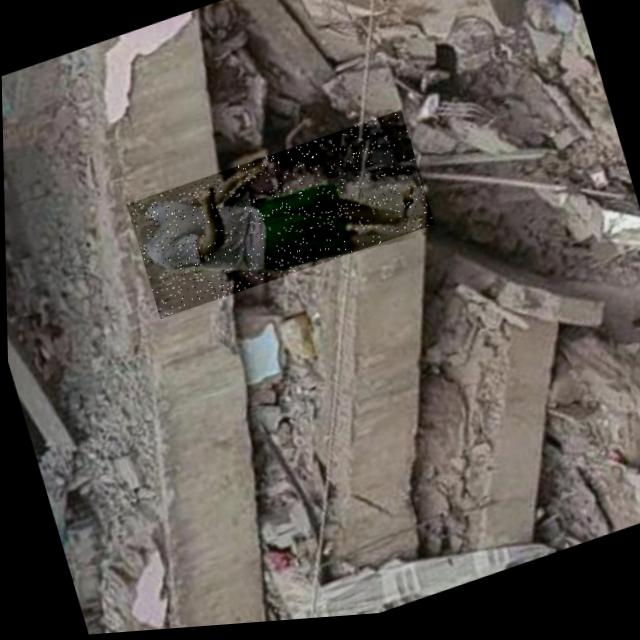Person in Rubble: (123, 113, 435, 321)
